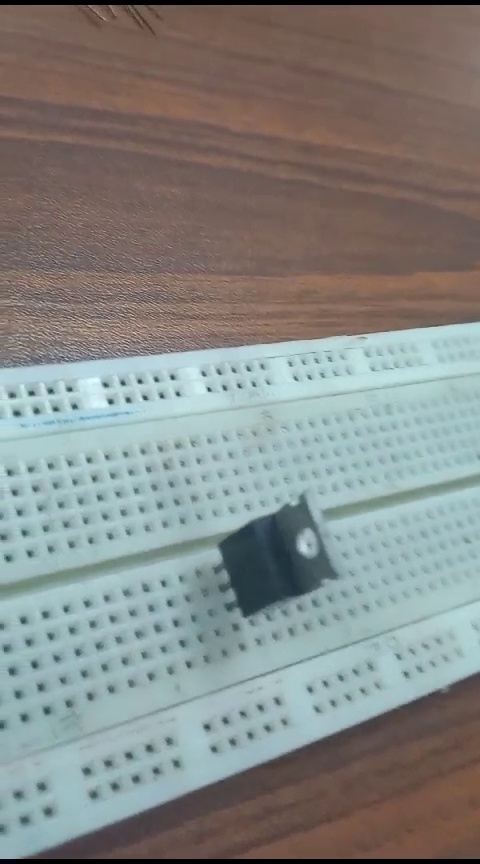voltage regulator: (202, 493, 334, 633)
